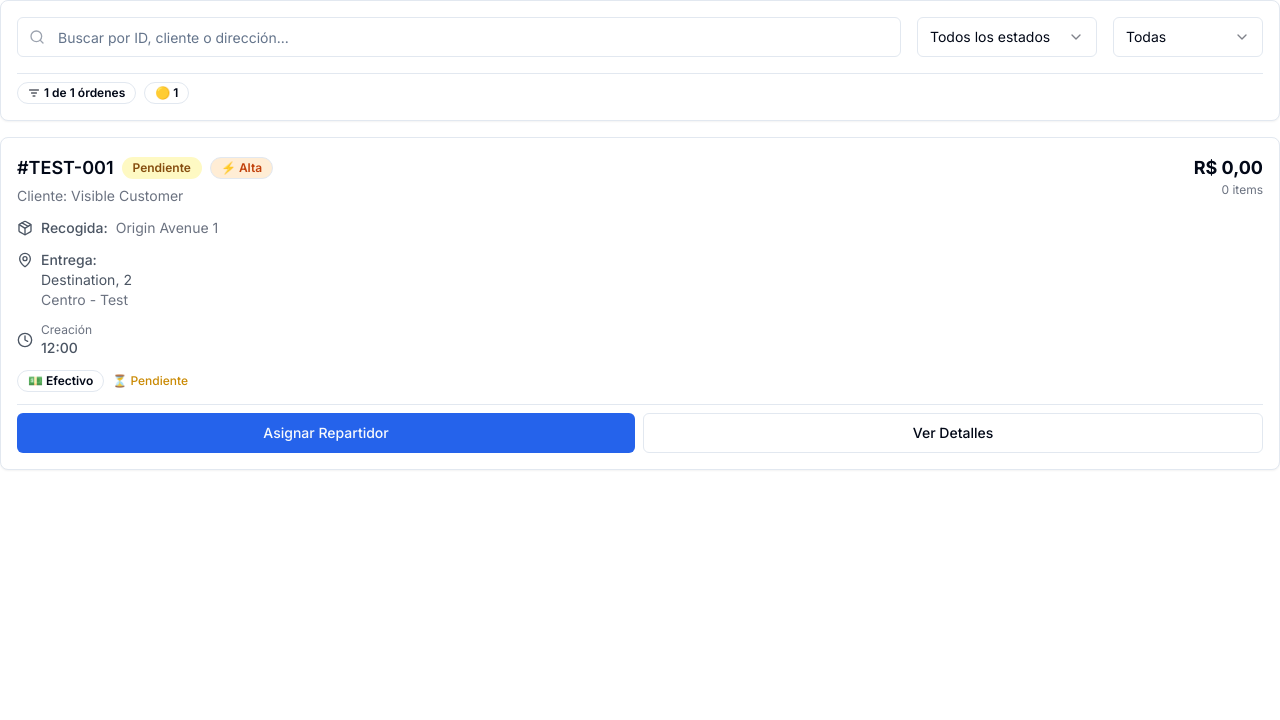
Test: fences the parent continuation after the store finishes under a different account
The width and height of the screenshot is (1280, 720).
Step 1. Click the button "Asignar Repartidor" → x=326, y=433, box [17,413,635,453]
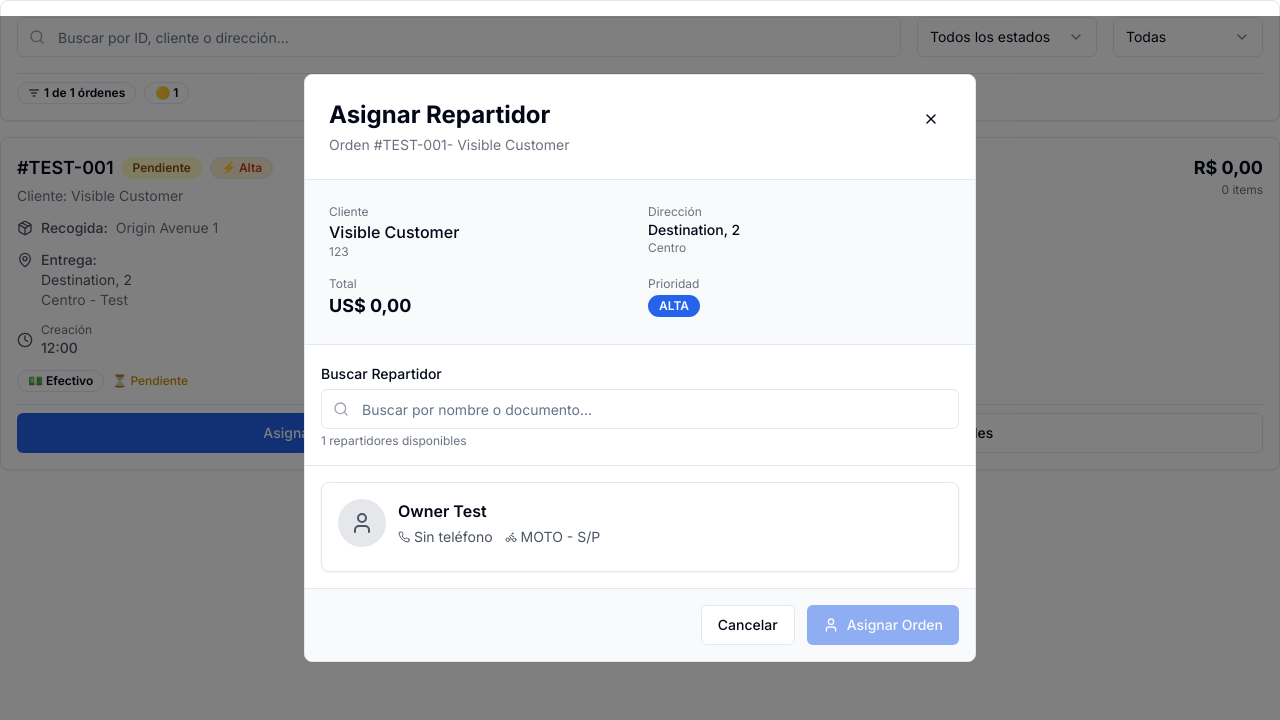
Step 2. Click the button "Owner Test Sin teléfono MOTO - S/P" → x=362, y=523, box [321,482,959,572]
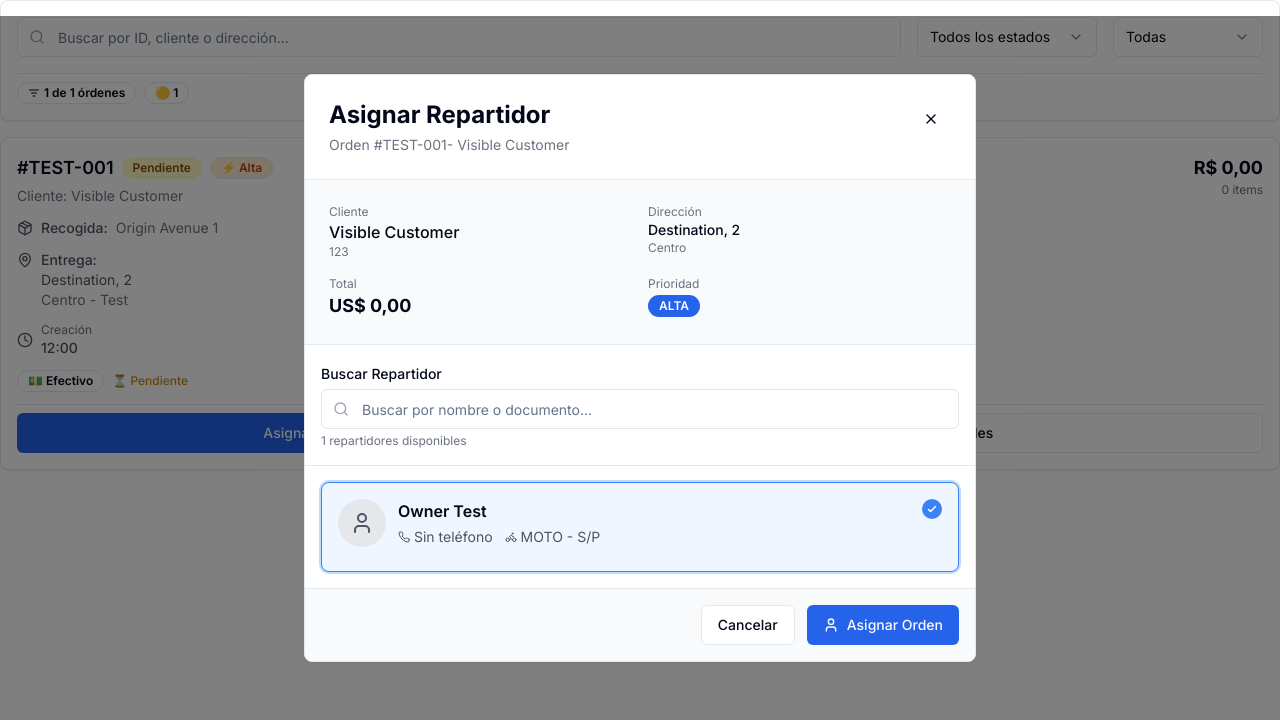
Step 3. Click the button "Asignar Orden" → x=883, y=625, box [807,605,959,645]
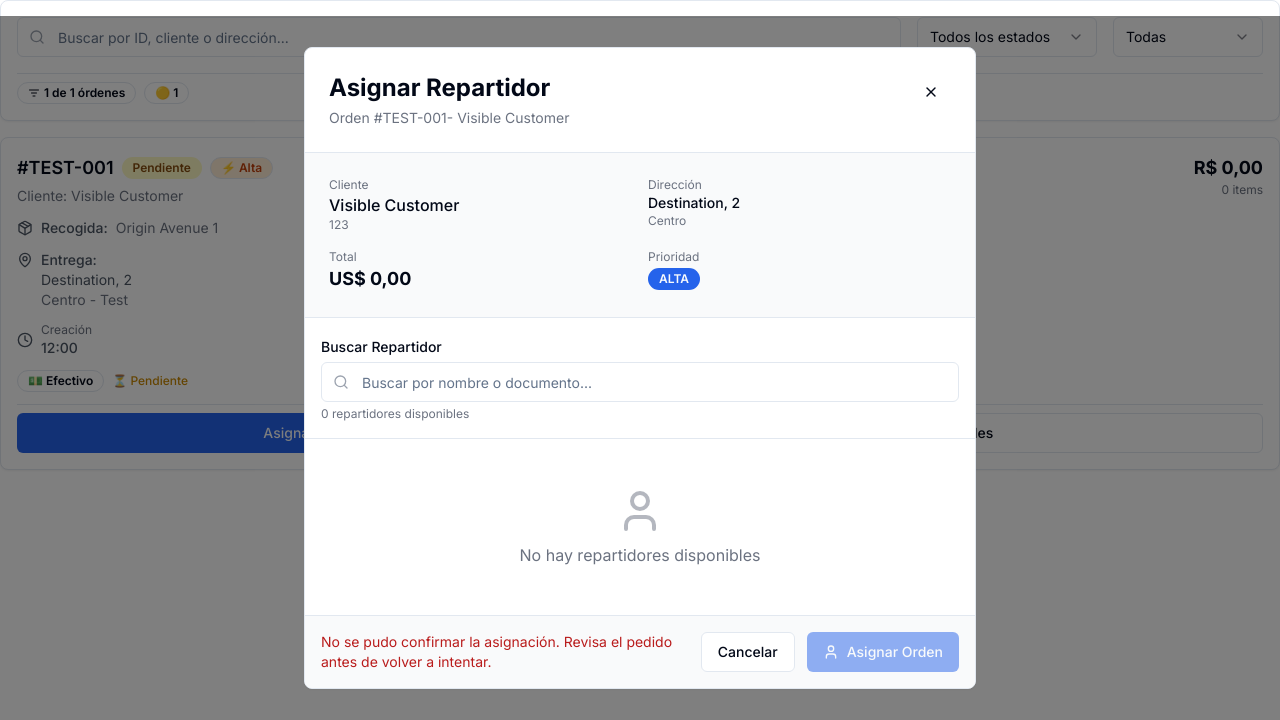
Now the button named "Cerrar asignación" is enabled, box [911,72,951,112]
Now the message is shown, box [321,632,689,672]
Now the button "Owner Test" is gone
